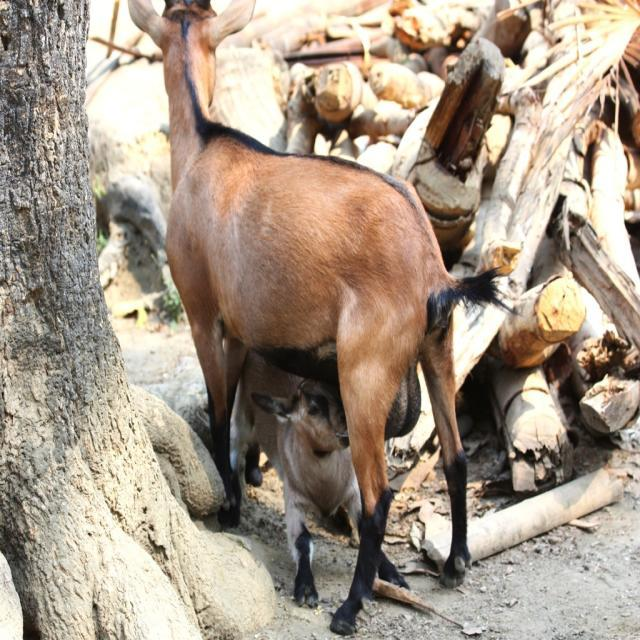Goat: (126, 0, 517, 635), (226, 345, 421, 610)
